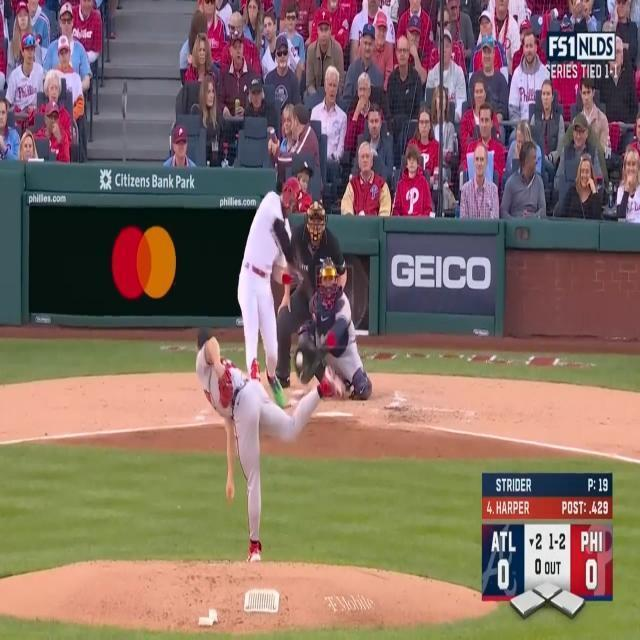sports ball: (295, 350, 305, 368)
